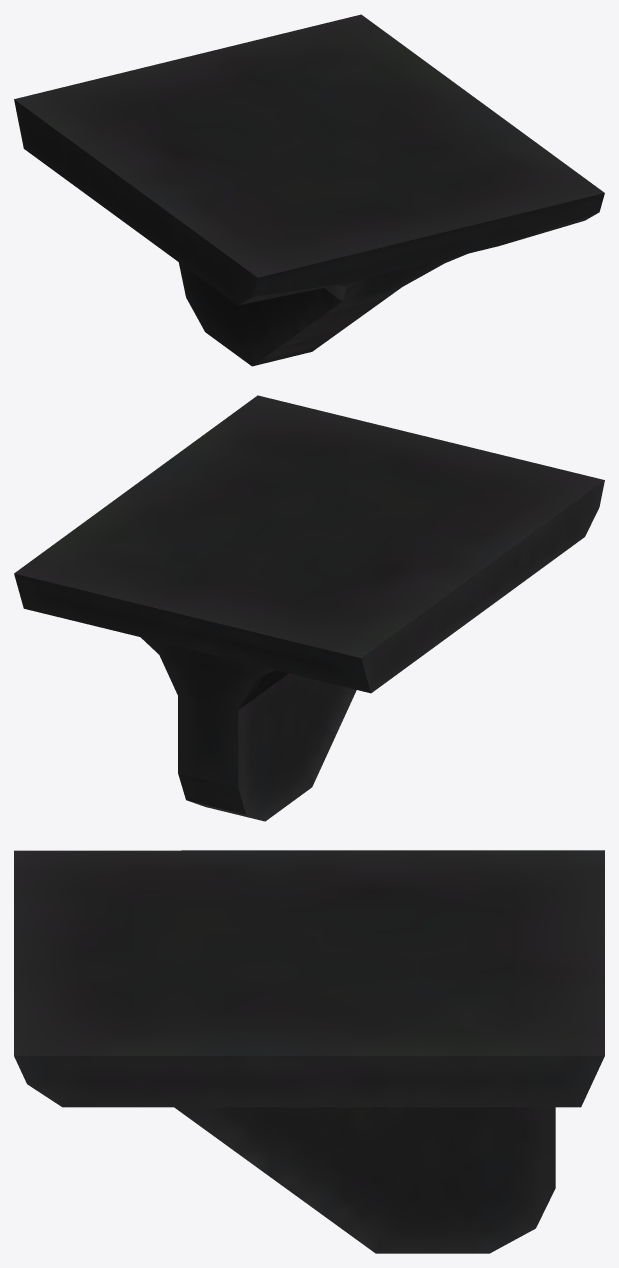
3 renders of one model, top to bottom at view 1: azimuth 30°, elevation 25°; view 2: azimuth 150°, elevation 25°; view 3: azimuth 270°, elevation 25°, orthographic. The views are drawn at different scales.
Parts seen in each view (by area): view 1: TW_5aba62f8d8ce87001943946b_PZ_Import; view 2: TW_5aba62f8d8ce87001943946b_PZ_Import; view 3: TW_5aba62f8d8ce87001943946b_PZ_Import.
Part boxes in pixels (<box>): TW_5aba62f8d8ce87001943946b_PZ_Import: <box>14,14,604,366</box>; TW_5aba62f8d8ce87001943946b_PZ_Import: <box>14,395,604,821</box>; TW_5aba62f8d8ce87001943946b_PZ_Import: <box>14,850,604,1253</box>.
Bounding box in the file's own units: 0.00627 × 0.00761 × 0.00402.
1 material, 1 textured.
